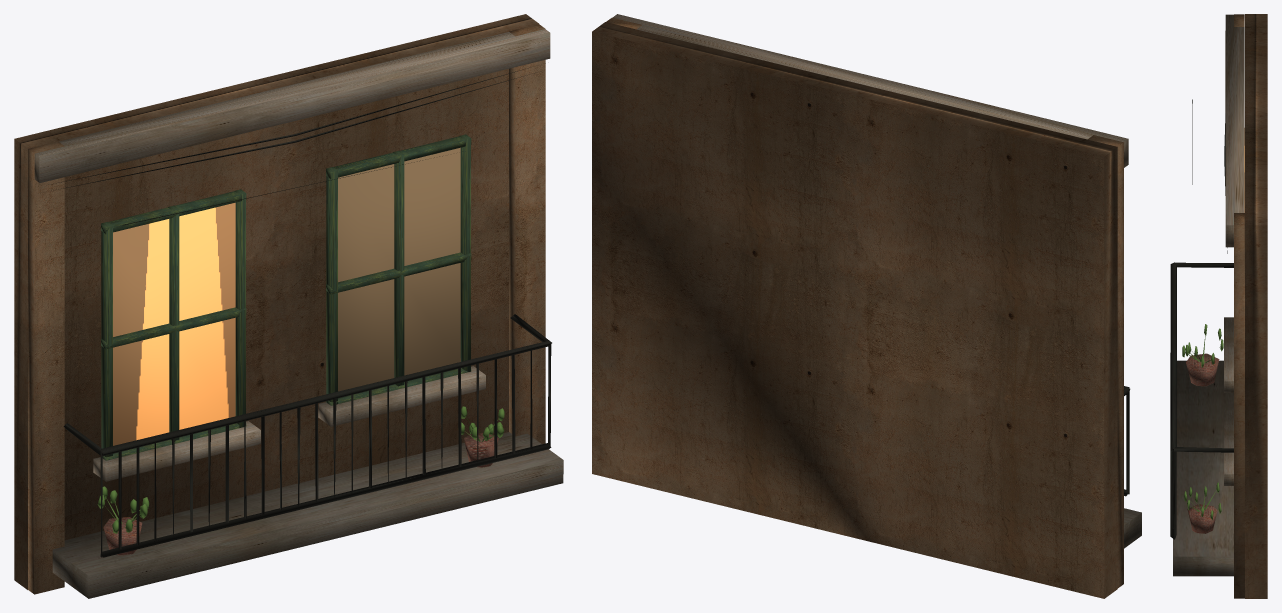
File: mat_tien_tang_03_lod1.glb
3 renders of one model, left to right at view 1: azimuth 30°, elevation 25°; view 2: azimuth 150°, elevation 25°; view 3: azimuth 270°, elevation 25°, orthographic. The views are drawn at different scales.
Parts seen in each view (by area): view 1: mat_tien_tang_03.001; view 2: mat_tien_tang_03.001; view 3: mat_tien_tang_03.001.
Part boxes in pixels (x1,y1,x2,y2): mat_tien_tang_03.001: (14, 14, 563, 598); mat_tien_tang_03.001: (592, 14, 1141, 598); mat_tien_tang_03.001: (1170, 14, 1267, 598).
Size of the model in its own units: 4 by 3.3 by 0.7776.
3 materials, 2 textured.
